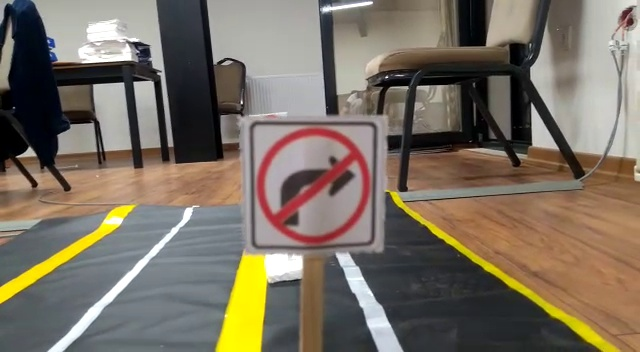saga_donulmez: (253, 121, 373, 247)
